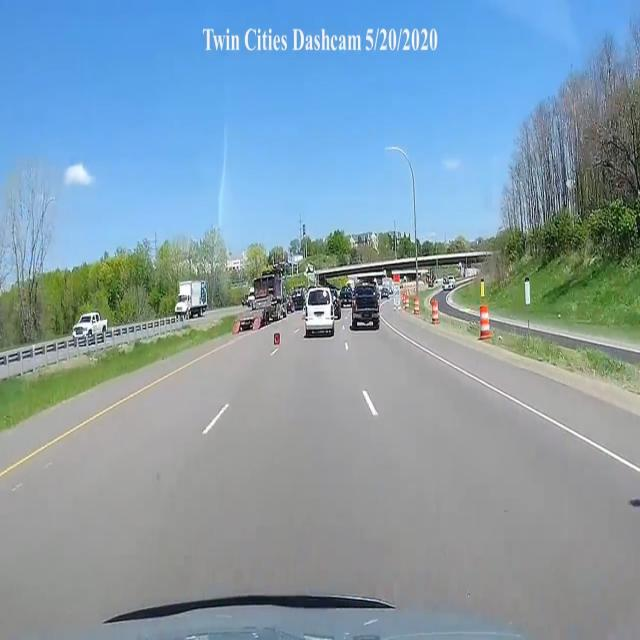Traffic Cone: (274, 328, 283, 346)
